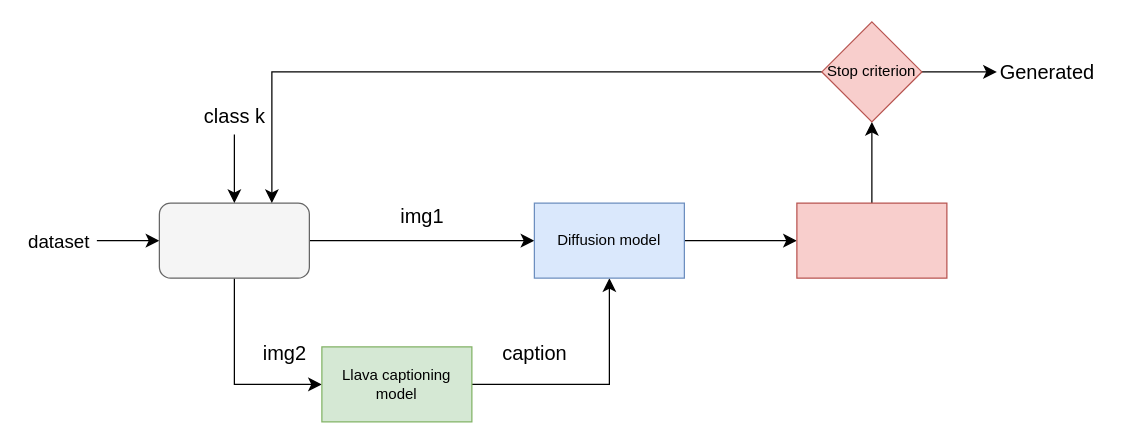
The diagram is 1130 pixels wide and 444 high, and some of its shapes have lost their labels. The shapes that lost their labels are listed below. From the top down, each one's centre as x and y in pixels, then its label:
(233,240): Pick two random samples
(871,240): CLIP-LORA Filtering
